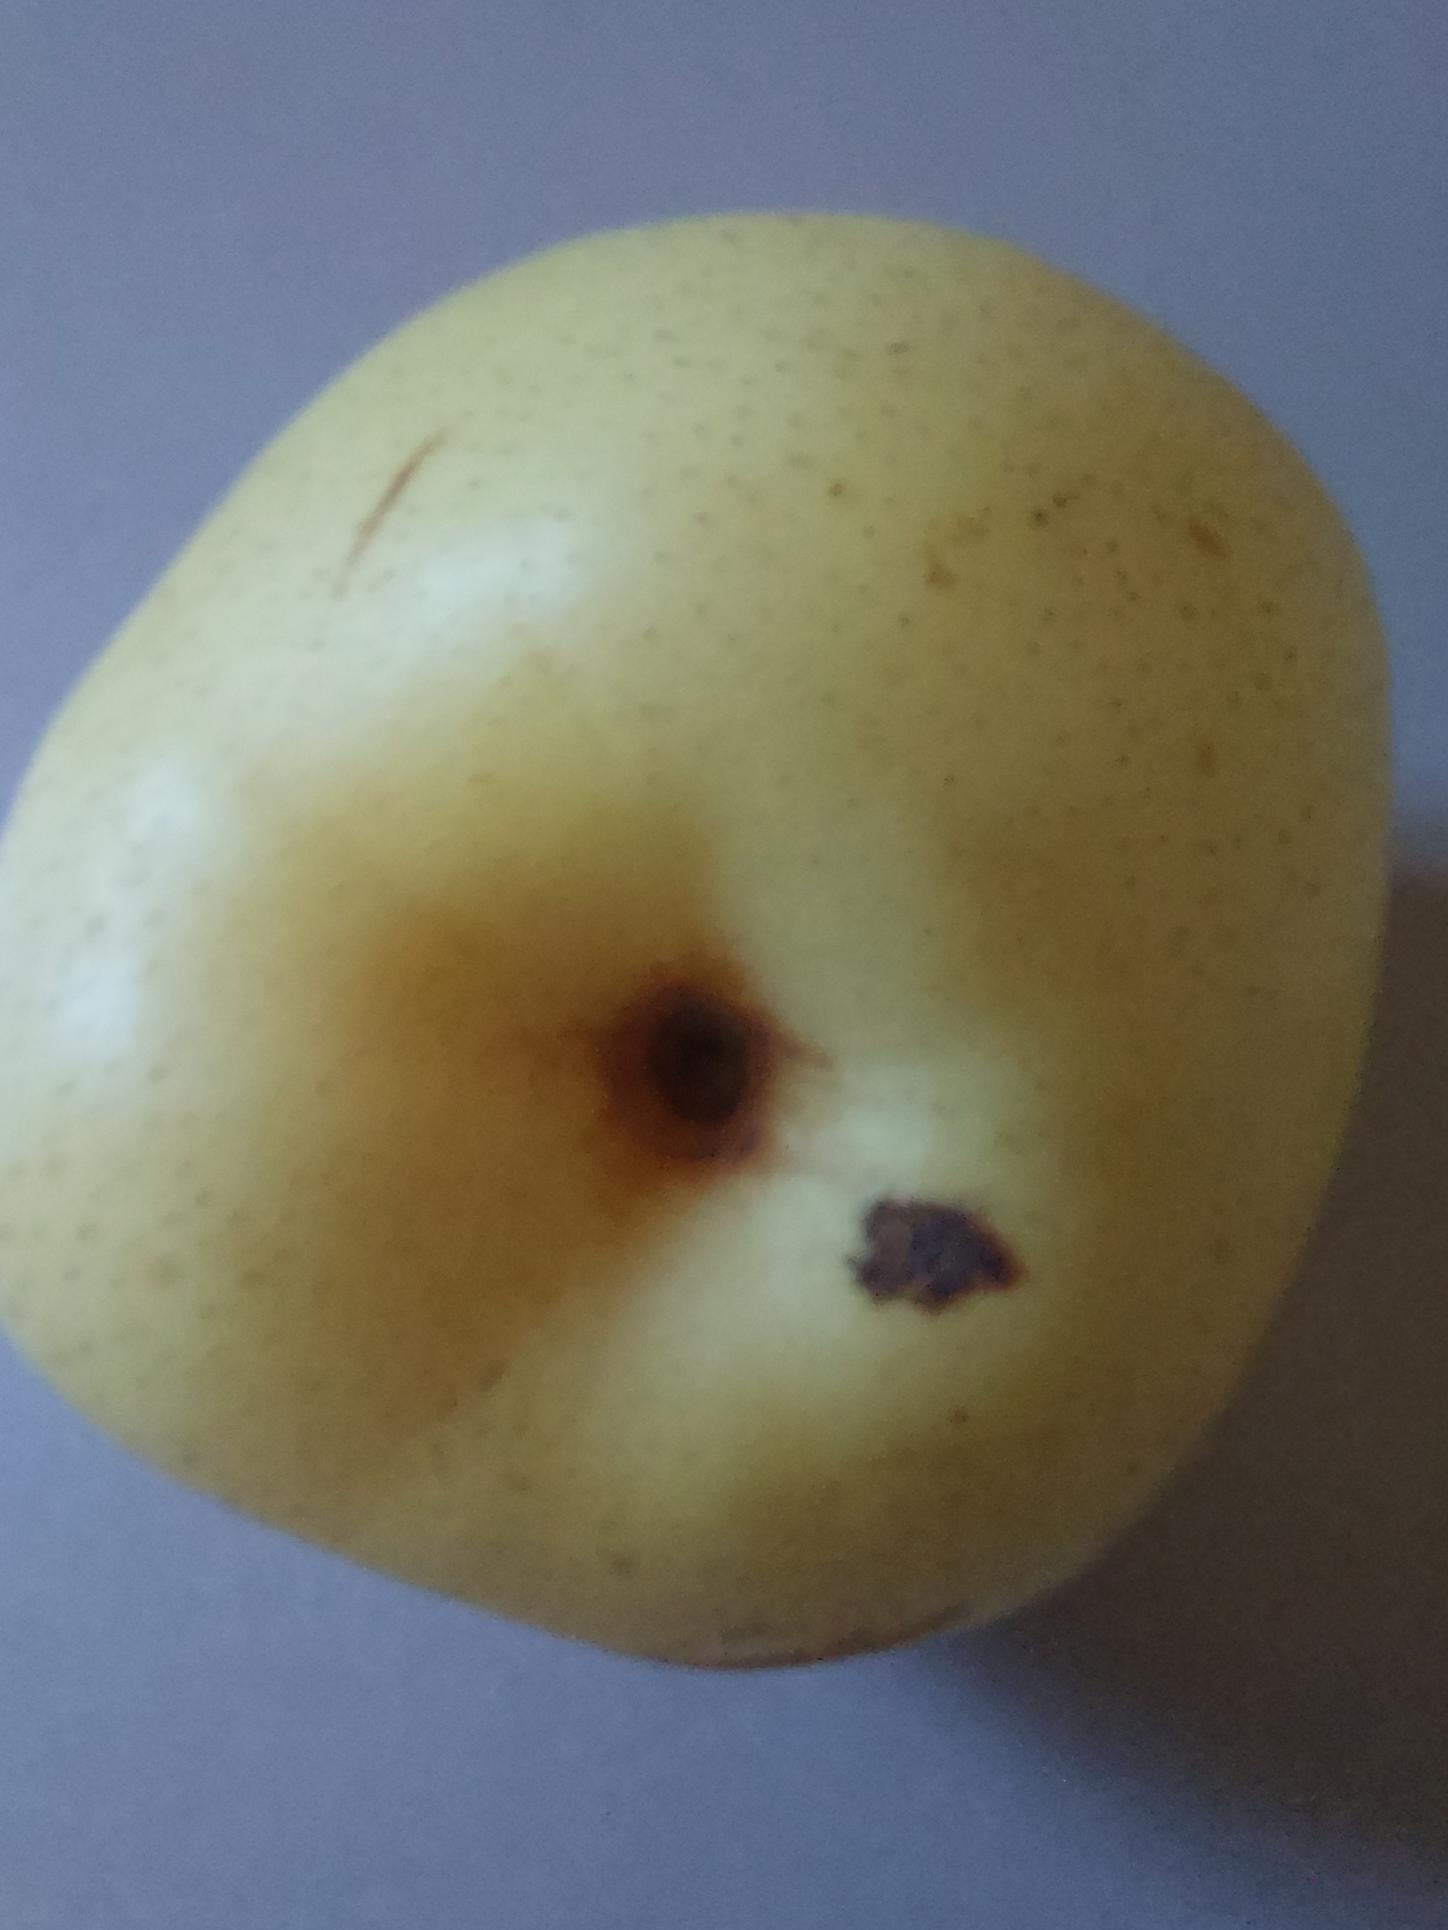Good Pear: (0, 151, 1448, 1747)
